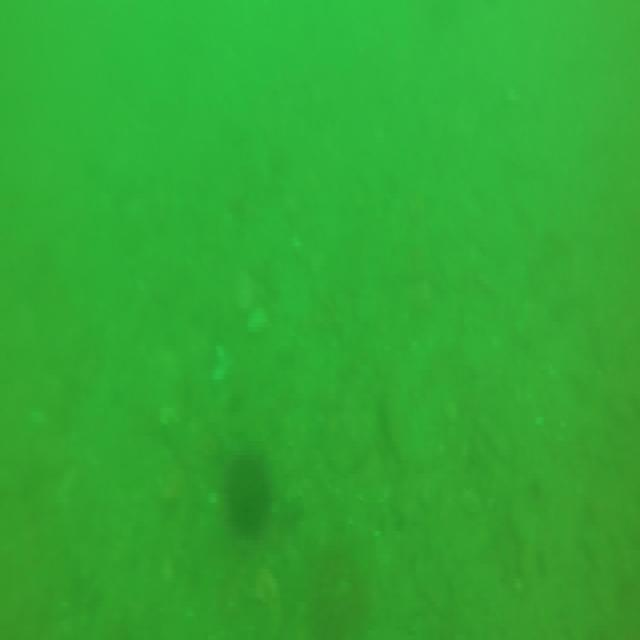echinus: (222, 439, 275, 541)
scallop: (214, 345, 230, 380), (250, 308, 266, 330)
